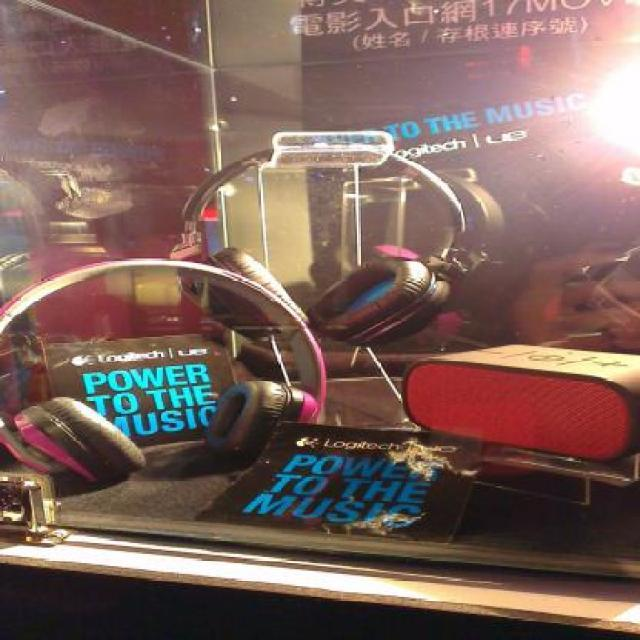earphone: (17, 253, 325, 487), (198, 87, 472, 328)
